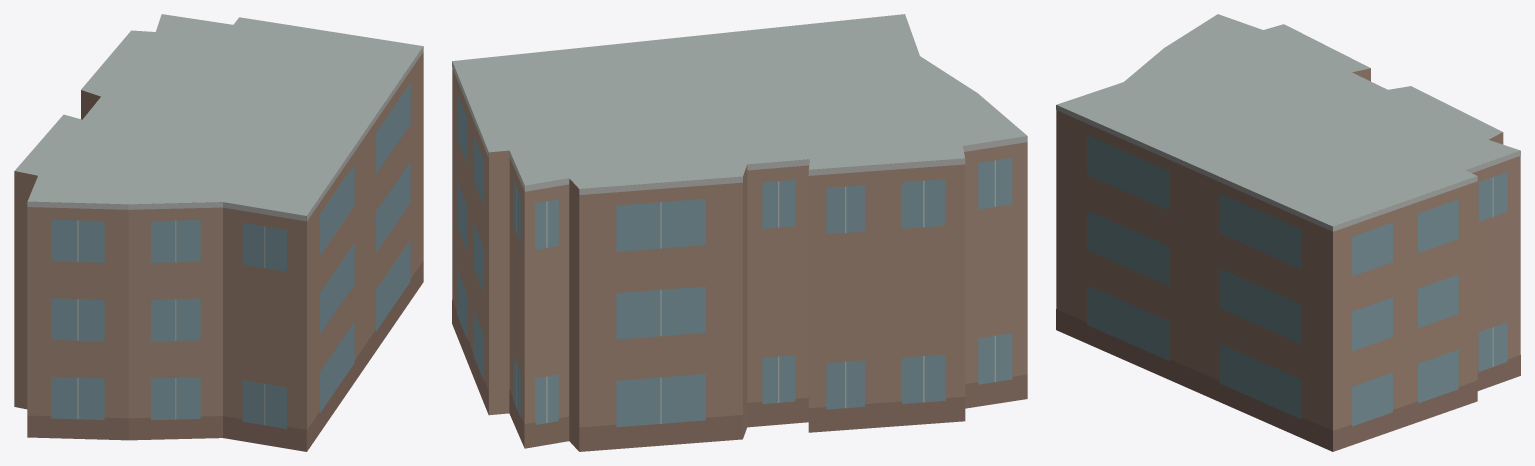
File: survey-upis-32833466.glb
The picture shows the model from 3 angles, left to right: view 1: azimuth 30°, elevation 25°; view 2: azimuth 150°, elevation 25°; view 3: azimuth 270°, elevation 25°; orthographic projection. The views are drawn at different scales.
Visible parts, largest first — view 1: survey-upis-32833466.tmp; view 2: survey-upis-32833466.tmp; view 3: survey-upis-32833466.tmp.
Boxes of the visible parts, x1=… form: survey-upis-32833466.tmp: x1=14, y1=14, x2=423, y2=451; survey-upis-32833466.tmp: x1=452, y1=14, x2=1027, y2=451; survey-upis-32833466.tmp: x1=1056, y1=14, x2=1520, y2=451.
Bounding box in the file's own units: 21.26 × 10.5 × 19.63.
